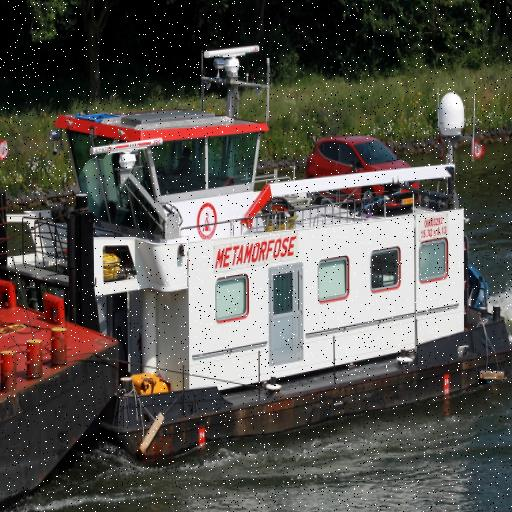tugboat: (1, 41, 512, 479)
